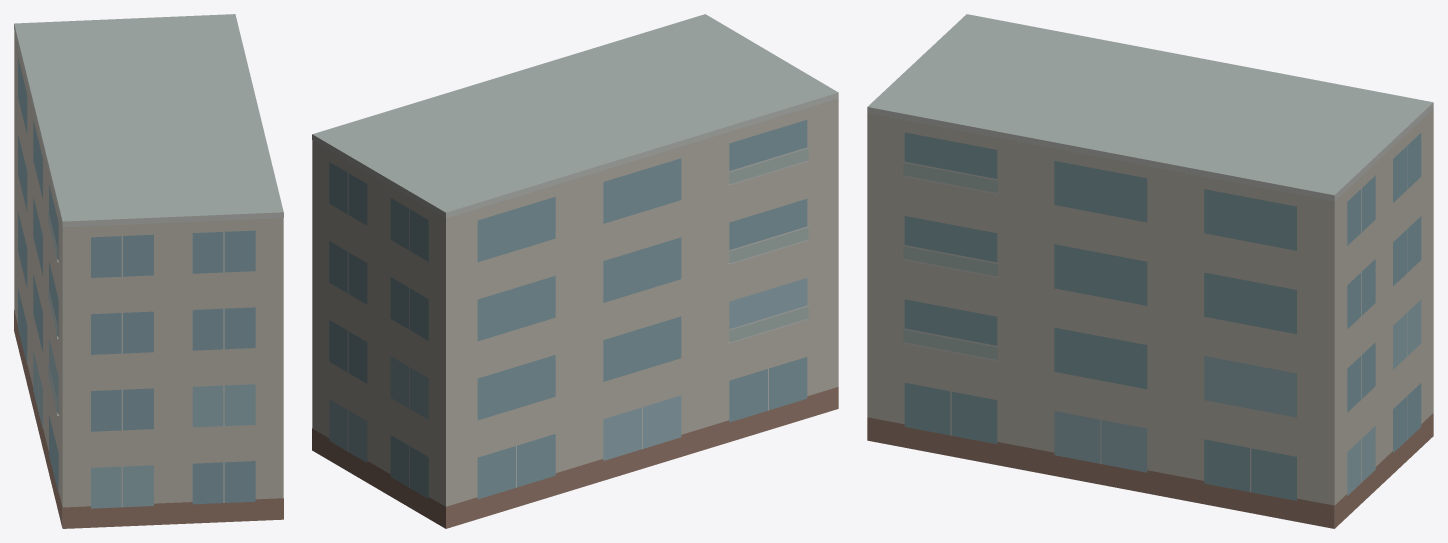
File: survey-upis-32812388.glb
The picture shows the model from 3 angles, left to right: view 1: azimuth 30°, elevation 25°; view 2: azimuth 150°, elevation 25°; view 3: azimuth 270°, elevation 25°; orthographic projection. The views are drawn at different scales.
Parts seen in each view (by area): view 1: survey-upis-32812388.tmp; view 2: survey-upis-32812388.tmp; view 3: survey-upis-32812388.tmp.
Part boxes in pixels (bbox=[...]): survey-upis-32812388.tmp: bbox=[14, 14, 283, 528]; survey-upis-32812388.tmp: bbox=[312, 14, 838, 528]; survey-upis-32812388.tmp: bbox=[867, 14, 1433, 528].
Size of the model in its own units: 15.39 by 13.2 by 20.32.
